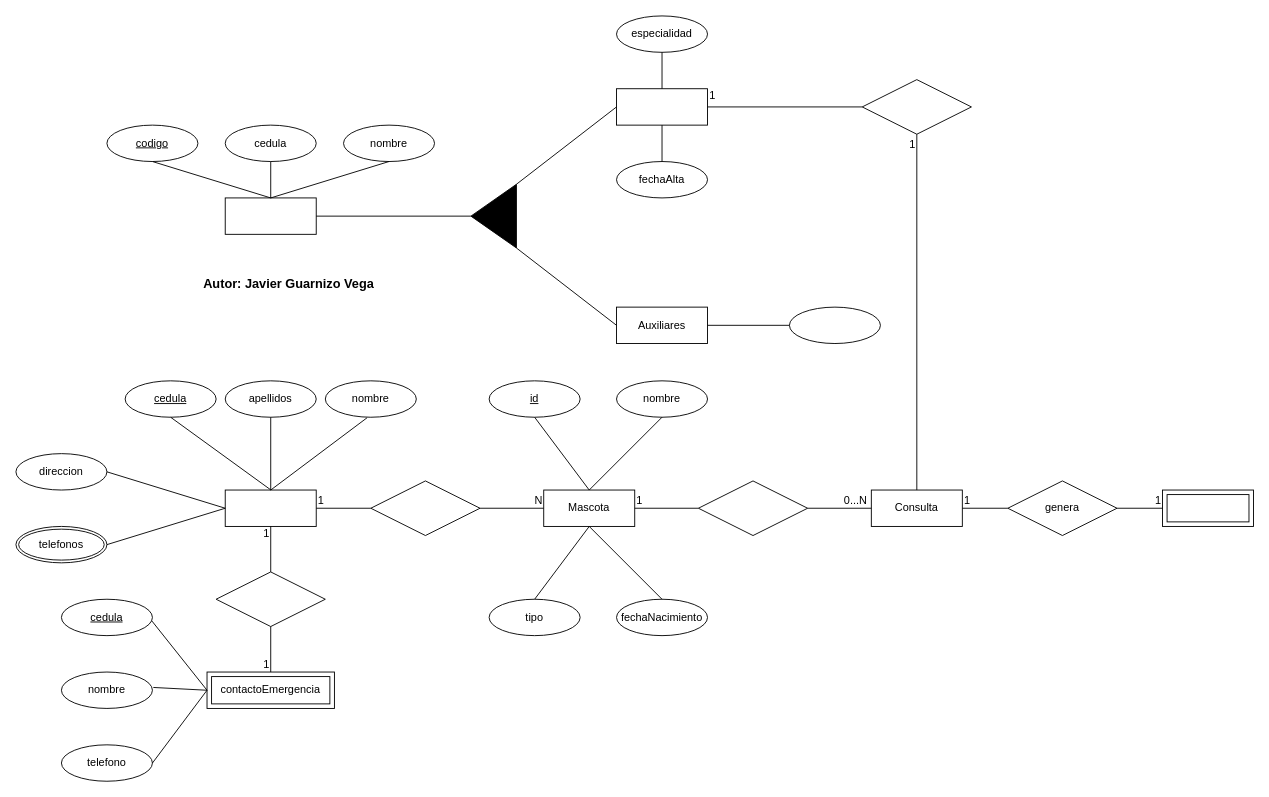
The diagram is 1269 pixels wide and 797 high, and some of its shapes have lost their labels. The centre of each missing label's shape, as x and y in pixels:
asiste: (x=916, y=106)
cotizacion: (x=834, y=325)
delega: (x=270, y=599)
Diagnostico: (x=1208, y=507)
es llamada: (x=753, y=508)
Personal: (x=270, y=215)
Propietario: (x=270, y=507)
se preocupa: (x=425, y=508)
Veterinario: (x=662, y=106)
